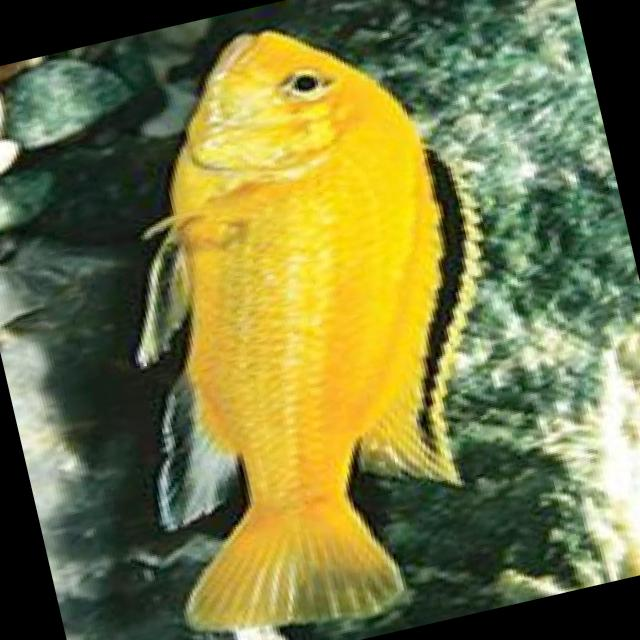YellowCichlid: (58, 0, 552, 640)
